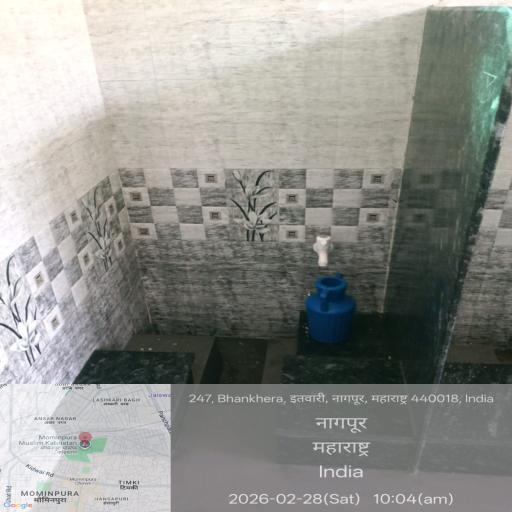clean_floor: (31, 24, 436, 322)
partial_dirty_floor: (89, 360, 437, 512)
